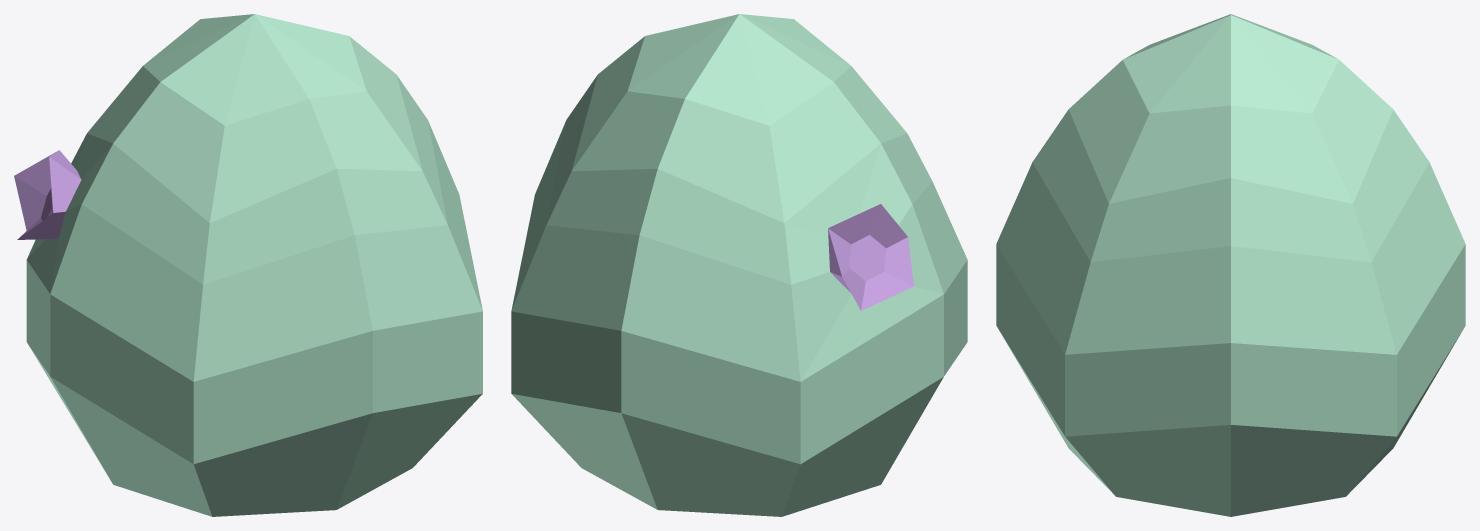
File: Bush2a.fbx
3 renders of one model, left to right at view 1: azimuth 30°, elevation 25°; view 2: azimuth 150°, elevation 25°; view 3: azimuth 270°, elevation 25°, orthographic.
Visible parts, largest first — view 1: Circle; view 2: Circle; view 3: Circle.
Boxes of the visible parts, x1,y1,x2,y2 form: Circle: (14,14,482,516); Circle: (511,14,967,516); Circle: (996,14,1465,516).
Bounding box in the file's own units: 261 × 265 × 260.
